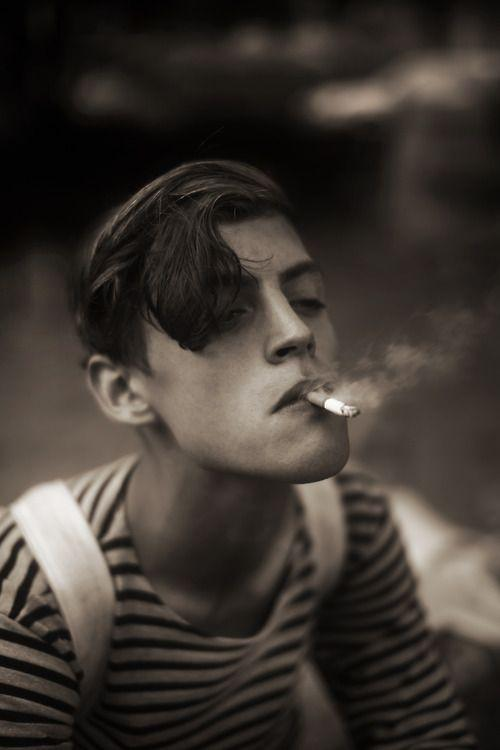cigarette: (304, 391, 360, 418)
